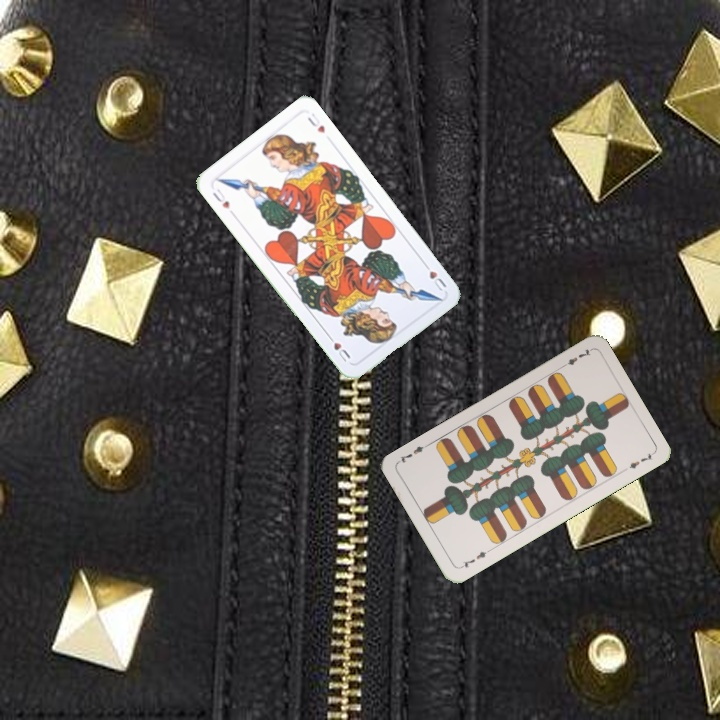E7: (557, 345, 594, 371), (457, 545, 493, 571)
HU: (419, 258, 449, 294), (209, 184, 232, 212)
